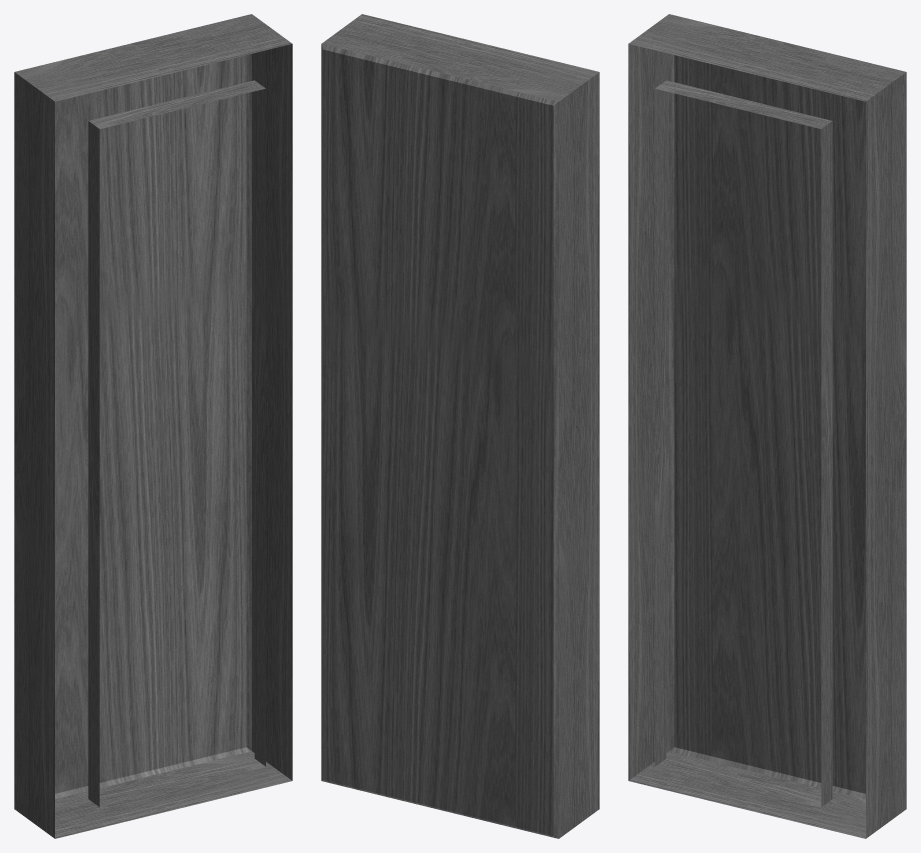
File: tv_table001a.FBX
The picture shows the model from 3 angles, left to right: view 1: azimuth 30°, elevation 25°; view 2: azimuth 150°, elevation 25°; view 3: azimuth 330°, elevation 25°; orthographic projection.
Visible parts, largest first — view 1: tv_table001a; view 2: tv_table001a; view 3: tv_table001a.
Part boxes in pixels (<box>): tv_table001a: <box>14,14,292,838</box>; tv_table001a: <box>321,14,599,838</box>; tv_table001a: <box>628,14,906,838</box>.
Size of the model in its own units: 78.01 by 231 by 29.46.
Materials: 1 (1 with a texture image).
